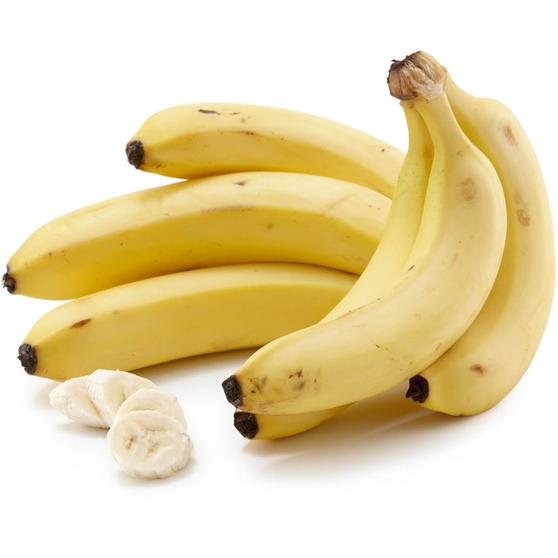banana: (227, 58, 507, 430)
